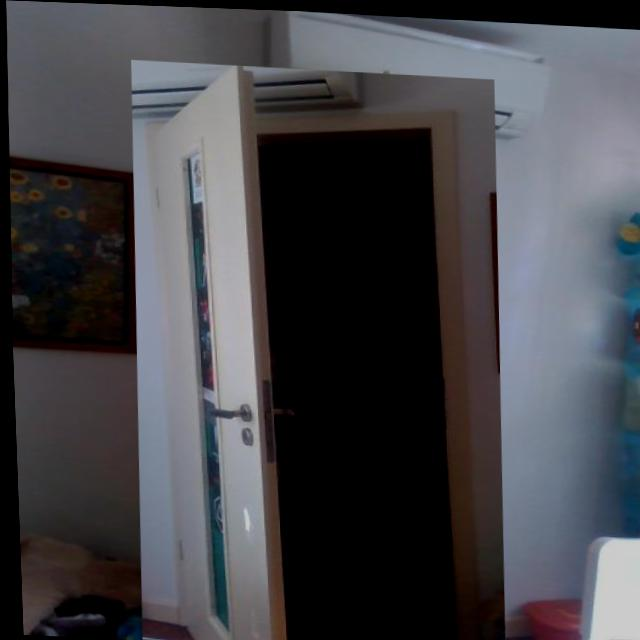semi-open: (119, 58, 512, 639)
